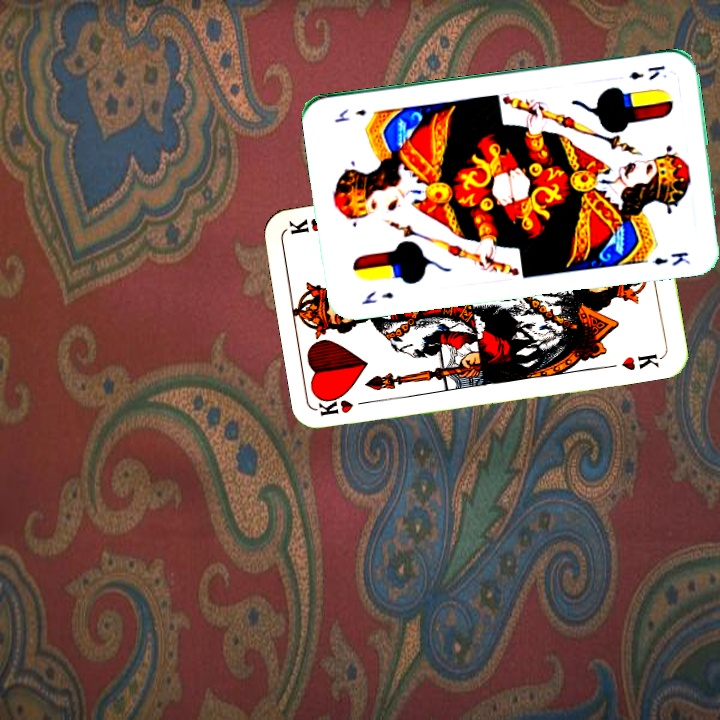EK: (625, 61, 668, 83), (357, 287, 396, 307)
HK: (316, 395, 376, 419)
